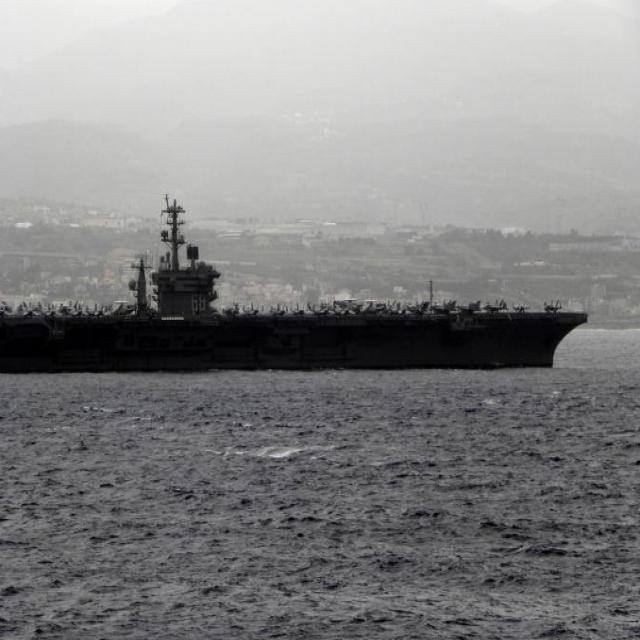Portanaves: (1, 190, 597, 383)
